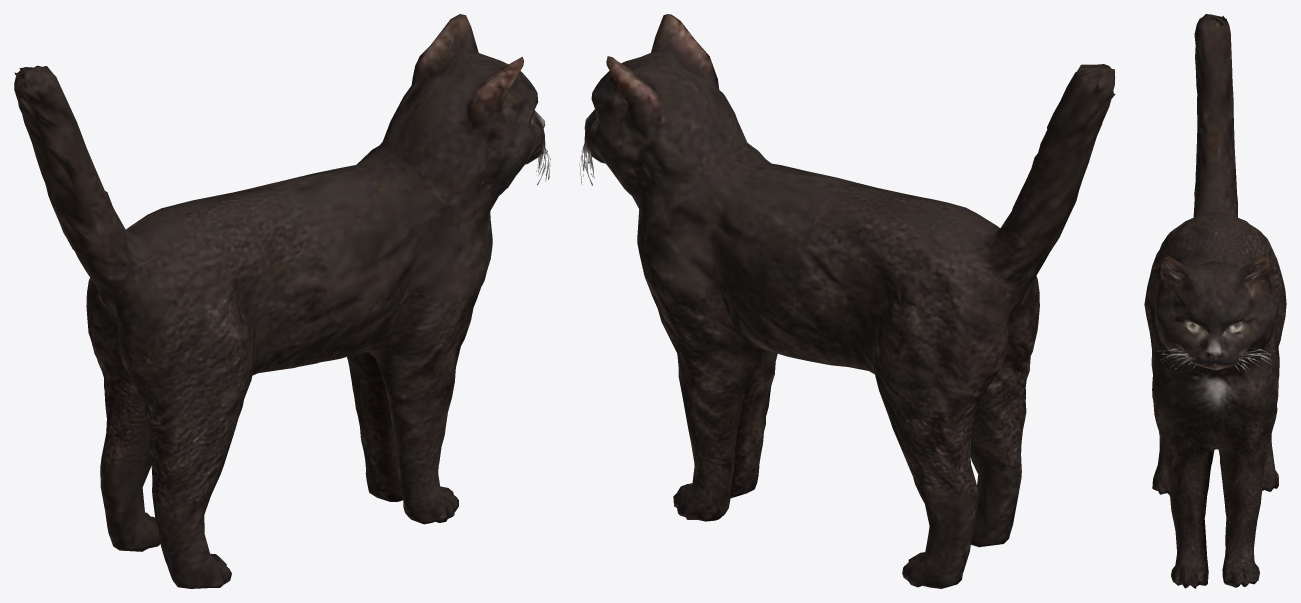
File: MYSADCAT-lo.glb
The picture shows the model from 3 angles, left to right: view 1: azimuth 30°, elevation 25°; view 2: azimuth 150°, elevation 25°; view 3: azimuth 270°, elevation 25°; orthographic projection. The views are drawn at different scales.
Parts seen in each view (by area): view 1: tripo_node_3e09a933-d52c-4b06-abd3-55f8c0186d81; view 2: tripo_node_3e09a933-d52c-4b06-abd3-55f8c0186d81; view 3: tripo_node_3e09a933-d52c-4b06-abd3-55f8c0186d81.
Boxes of the visible parts, x1=… form: tripo_node_3e09a933-d52c-4b06-abd3-55f8c0186d81: x1=14, y1=14, x2=550, y2=588; tripo_node_3e09a933-d52c-4b06-abd3-55f8c0186d81: x1=579, y1=14, x2=1115, y2=588; tripo_node_3e09a933-d52c-4b06-abd3-55f8c0186d81: x1=1144, y1=14, x2=1286, y2=588.
Bounding box in the file's own units: 1.04 × 0.9995 × 0.3076.
Materials: 1 (1 with a texture image).
